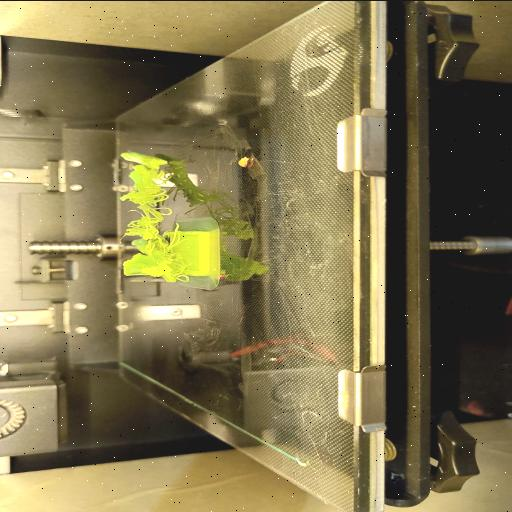spaghetti: (116, 166, 188, 280)
